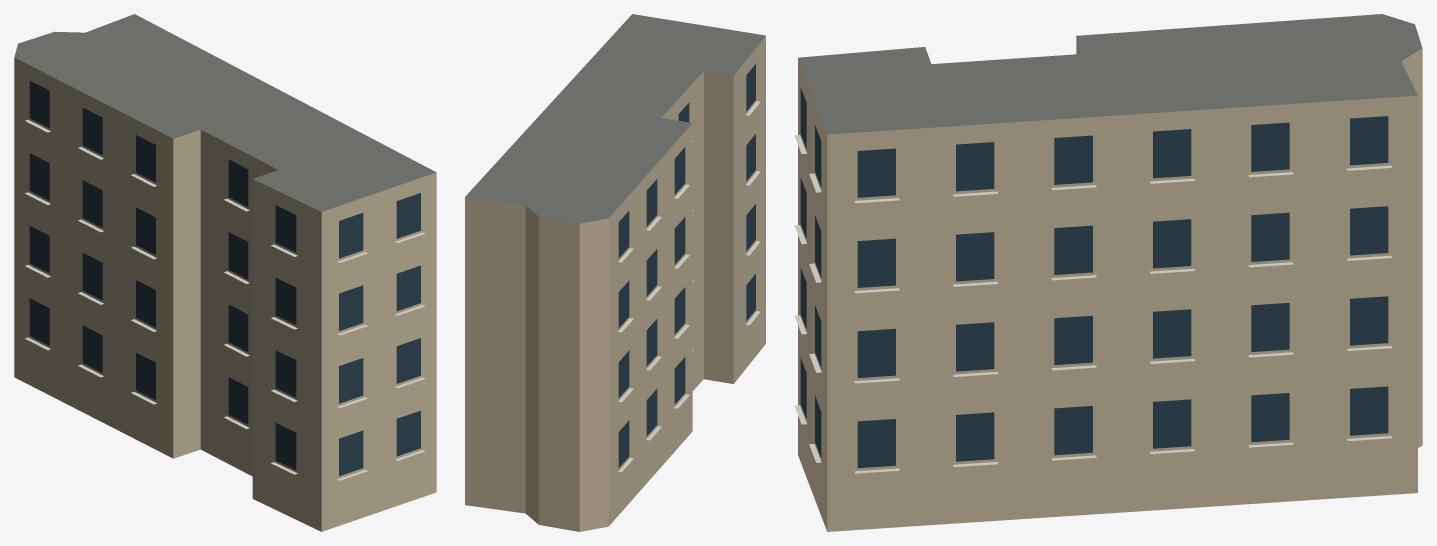
3 views of the same model, side by side, from view 1: azimuth 30°, elevation 25°; view 2: azimuth 150°, elevation 25°; view 3: azimuth 270°, elevation 25° (orthographic). The views are drawn at different scales.
Visible parts, largest first — view 1: Footprint 0, Inferred window bays, Window sills; view 2: Footprint 0, Inferred window bays, Window sills; view 3: Footprint 0, Inferred window bays, Window sills.
Part boxes in pixels (x1,y1,x2,y2): Footprint 0: [14, 14, 436, 531]; Inferred window bays: [29, 80, 420, 476]; Window sills: [25, 120, 425, 480]; Footprint 0: [465, 14, 765, 531]; Inferred window bays: [618, 64, 755, 467]; Window sills: [618, 101, 760, 472]; Footprint 0: [798, 14, 1422, 531]; Inferred window bays: [800, 87, 1388, 468]; Window sills: [794, 135, 1391, 473].
Bounding box in the file's own units: 9.28 × 13.99 × 20.04.
